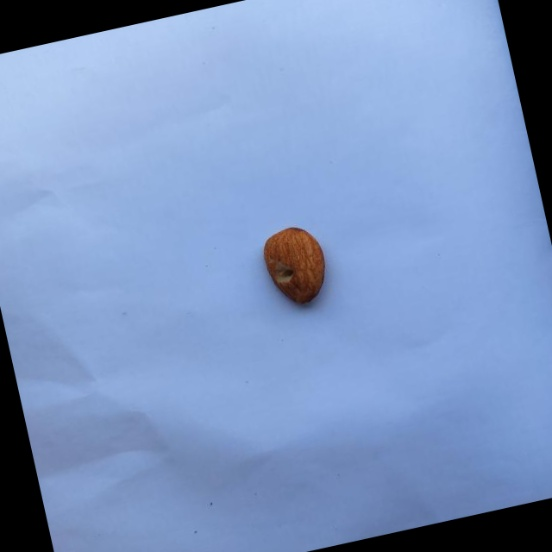grade3: (254, 218, 335, 315)
